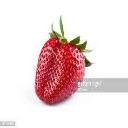strawberry: (32, 23, 90, 106)
